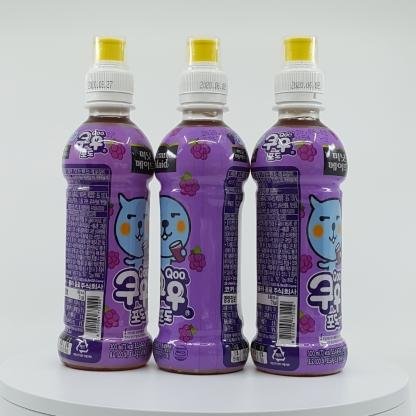------300ML: (250, 35, 348, 377), (152, 35, 250, 375), (57, 34, 155, 371)
